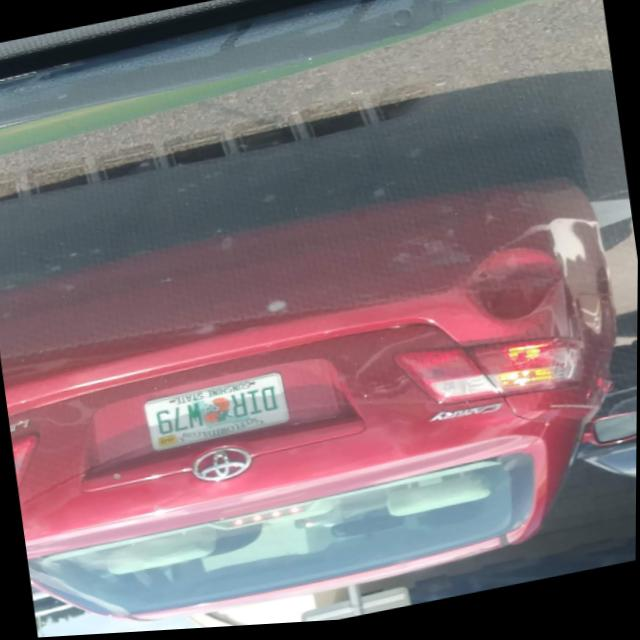Dent: (444, 240, 579, 348)
